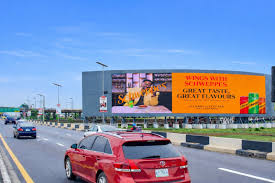Billboard: (82, 69, 274, 123)
